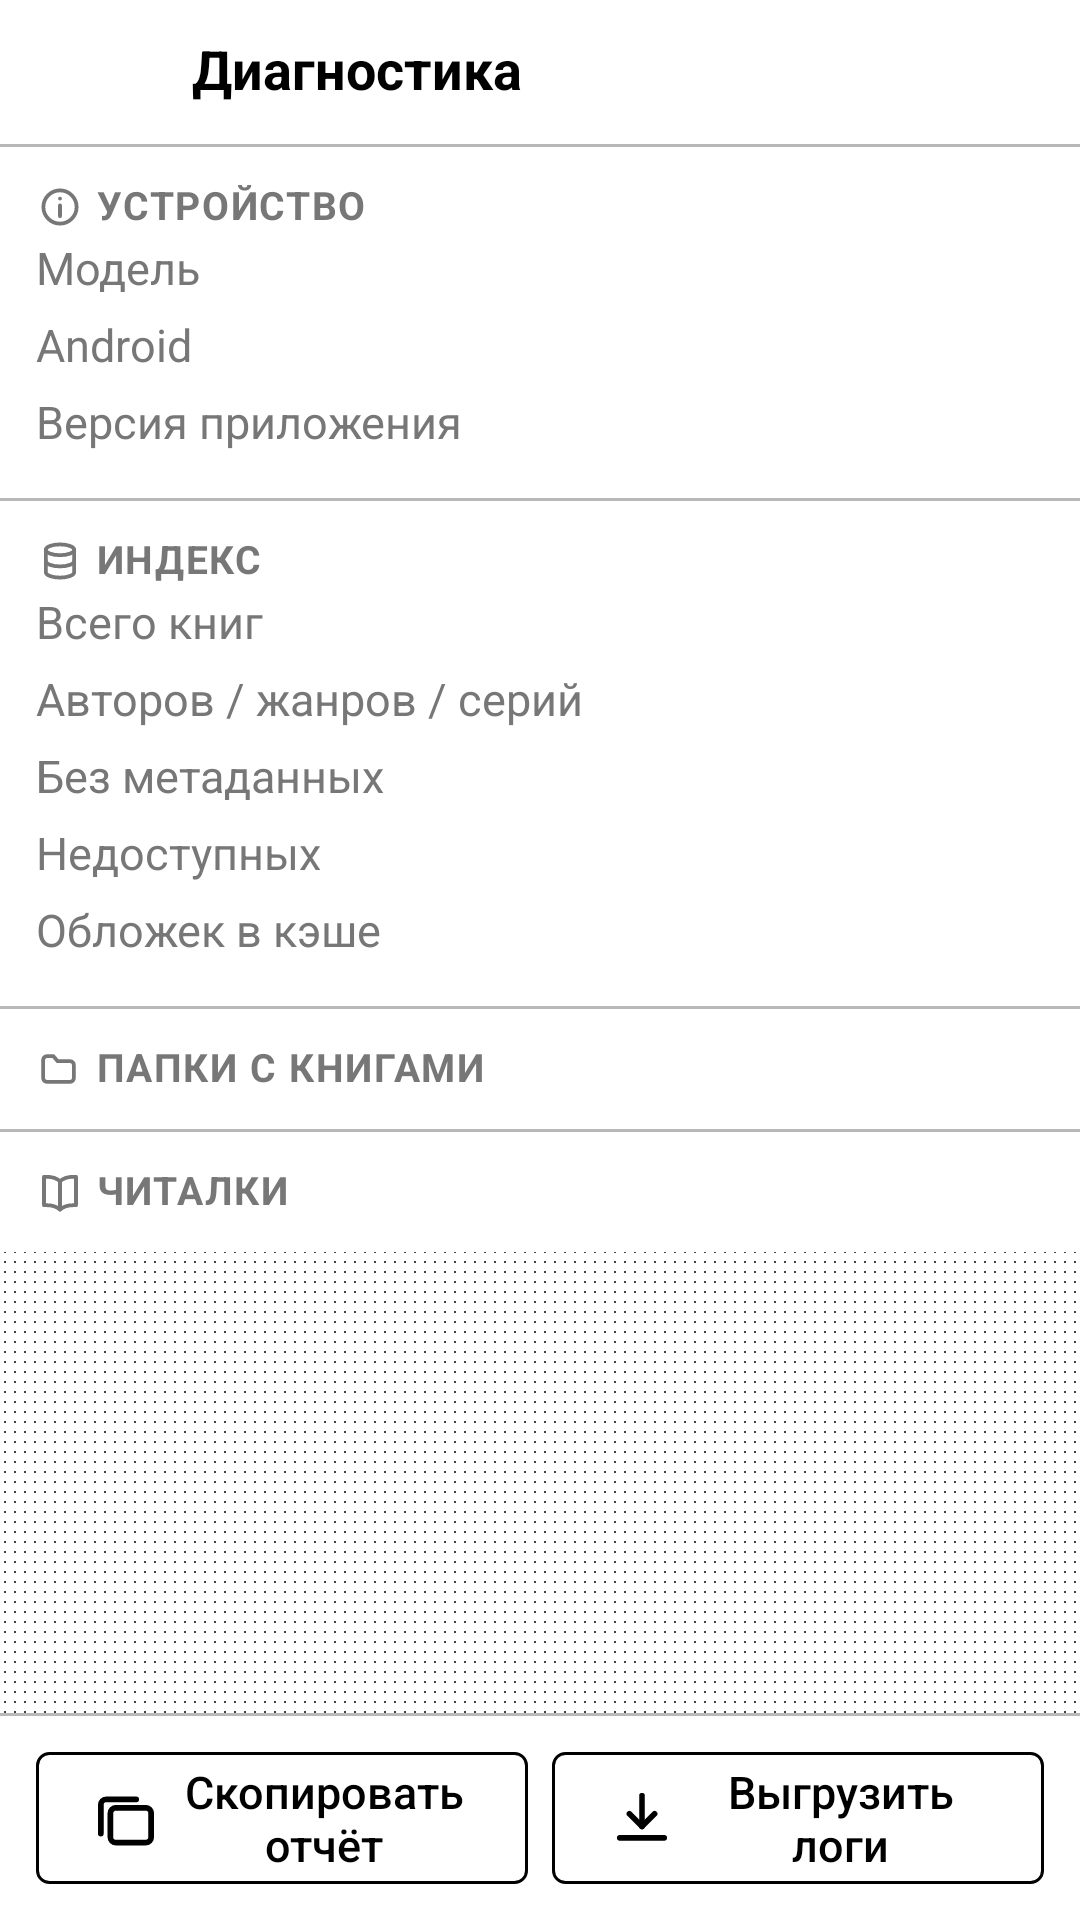

Locate icon controls on the screen. Image size 1080×1920, boxes as (x1, y1, x2, y2).
book open: (42, 1175, 78, 1212)
database: (44, 542, 76, 580)
folder: (41, 1054, 76, 1084)
info: (41, 188, 79, 226)
